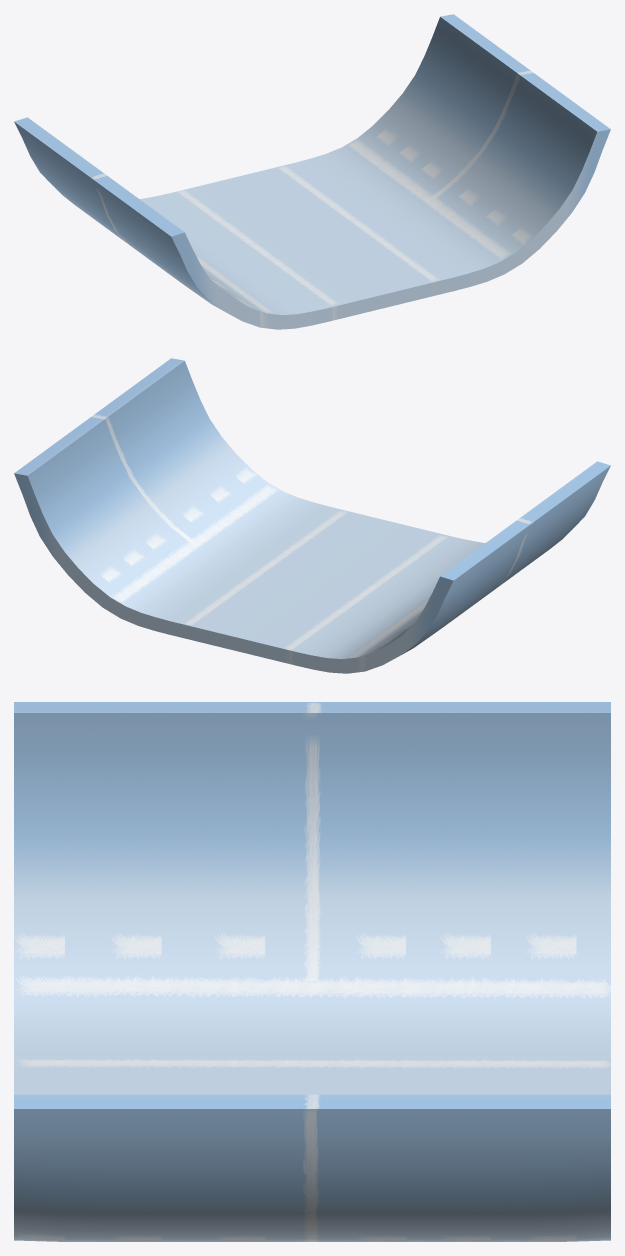
Rendered from RoadRage.fbx.
The picture shows the model from 3 angles, top to bottom: view 1: azimuth 30°, elevation 25°; view 2: azimuth 150°, elevation 25°; view 3: azimuth 270°, elevation 25°; orthographic projection. The views are drawn at different scales.
Visible parts, largest first — view 1: RoadRage; view 2: RoadRage; view 3: RoadRage.
Part boxes in pixels (left/top/right/bottom): RoadRage: left=14, top=14, right=610, bottom=329; RoadRage: left=14, top=358, right=610, bottom=673; RoadRage: left=14, top=702, right=610, bottom=1241.
Bounding box in the file's own units: 32.28 × 8.73 × 20.01.
1 material, 1 textured.
